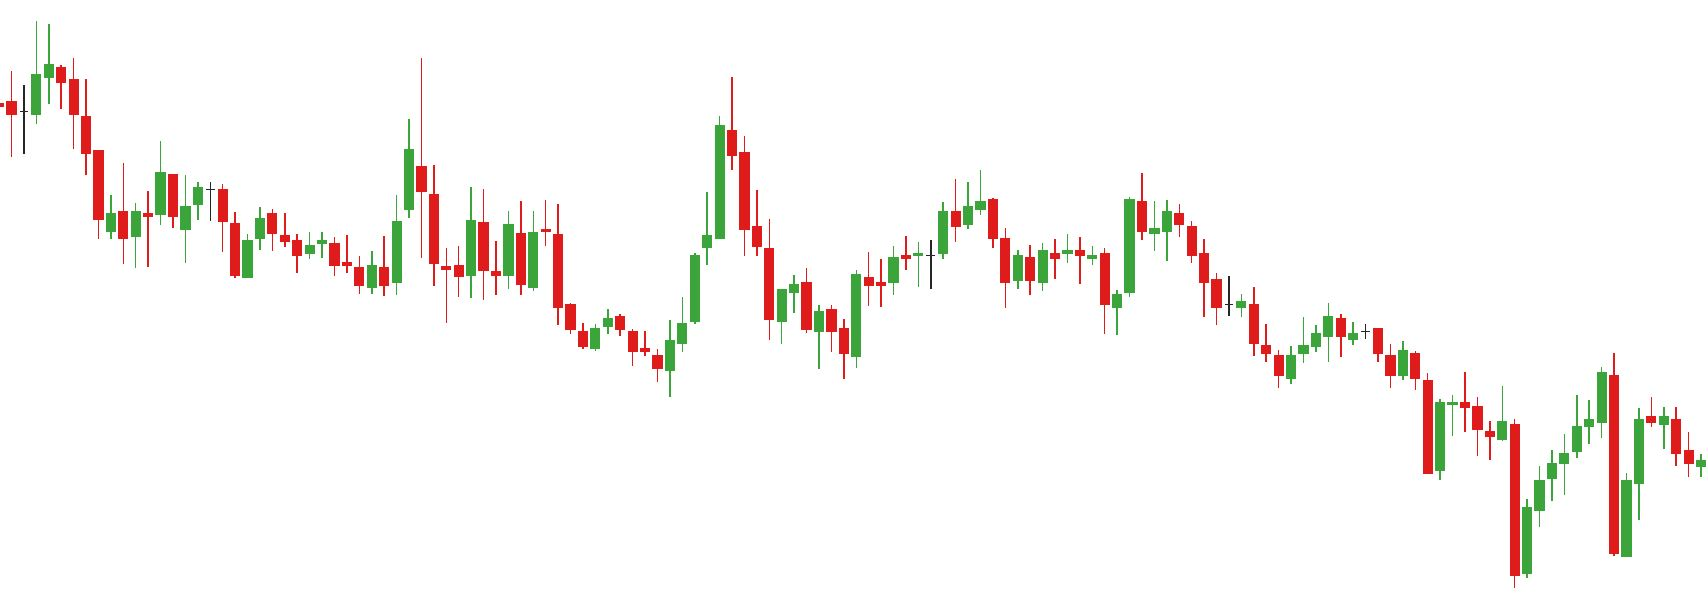sell: (152, 59, 427, 258), (516, 80, 752, 288), (1461, 354, 1620, 479), (975, 172, 1151, 276)
